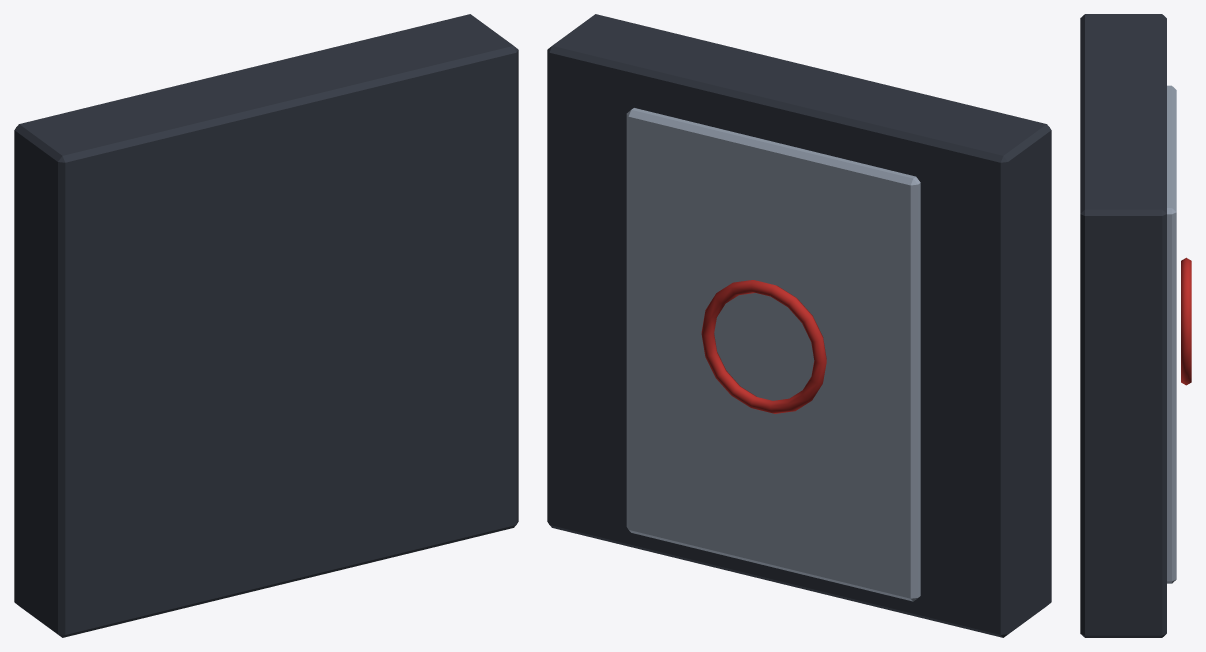
The model's file is reinforced_steel_bulkhead.obj.
3 renders of one model, left to right at view 1: azimuth 30°, elevation 25°; view 2: azimuth 150°, elevation 25°; view 3: azimuth 270°, elevation 25°, orthographic. The views are drawn at different scales.
Parts seen in each view (by area): view 1: Wall; view 2: Wall, DoorLeaf, Wheel; view 3: Wall, DoorLeaf, Wheel.
Part boxes in pixels (x1,y1,x2,y2): Wall: [14, 14, 518, 637]; Wall: [547, 14, 1051, 637]; DoorLeaf: [626, 108, 920, 601]; Wheel: [701, 280, 826, 413]; Wall: [1080, 14, 1166, 637]; DoorLeaf: [1167, 85, 1176, 583]; Wheel: [1181, 257, 1191, 385].
Size of the model in its own units: 1.96 by 1.96 by 0.4625.
